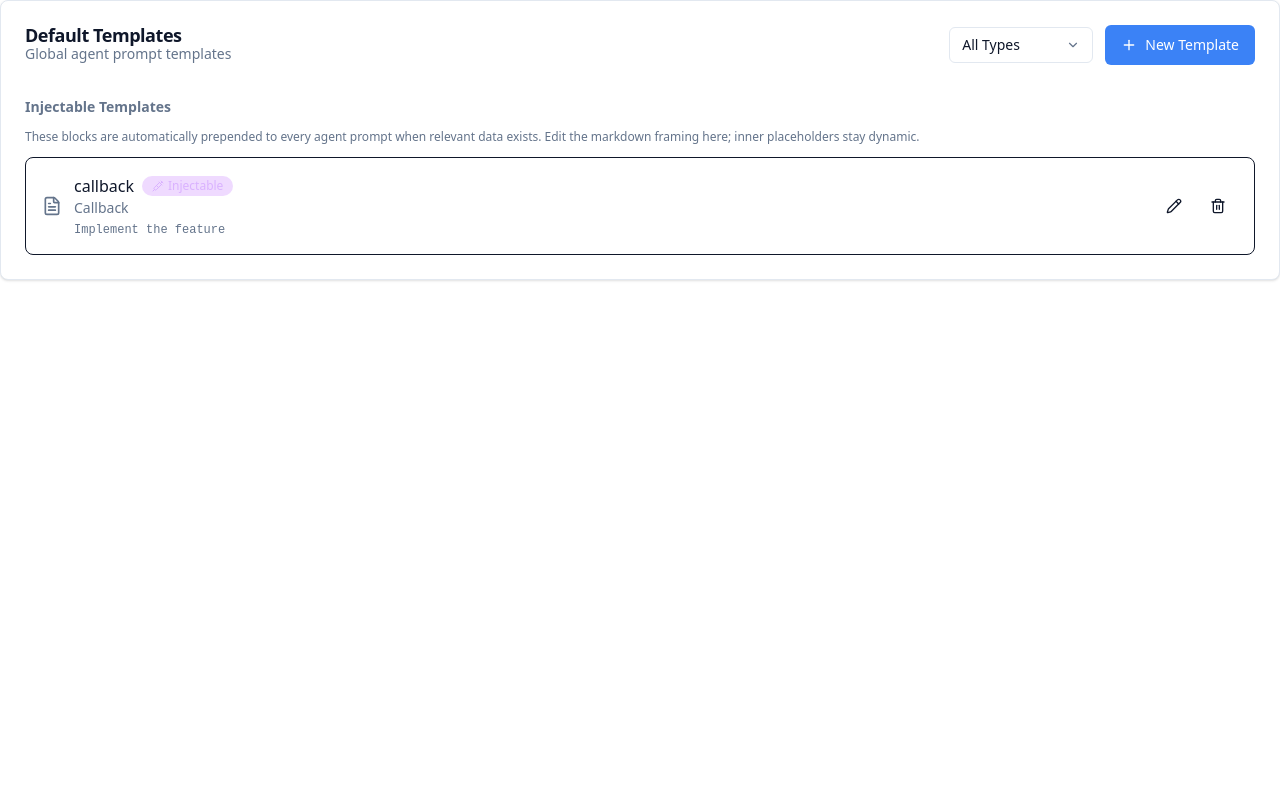
Scenario: DefaultTemplatesSection — type features › edit mode shows type as disabled input
Check: the text "callback" is shown, box [74,174,134,198]
# Click edit (buttons: filter, New Template, edit pencil, trash)
Click the 3rd button at {"x": 1174, "y": 206}, box [1154,186,1194,226]
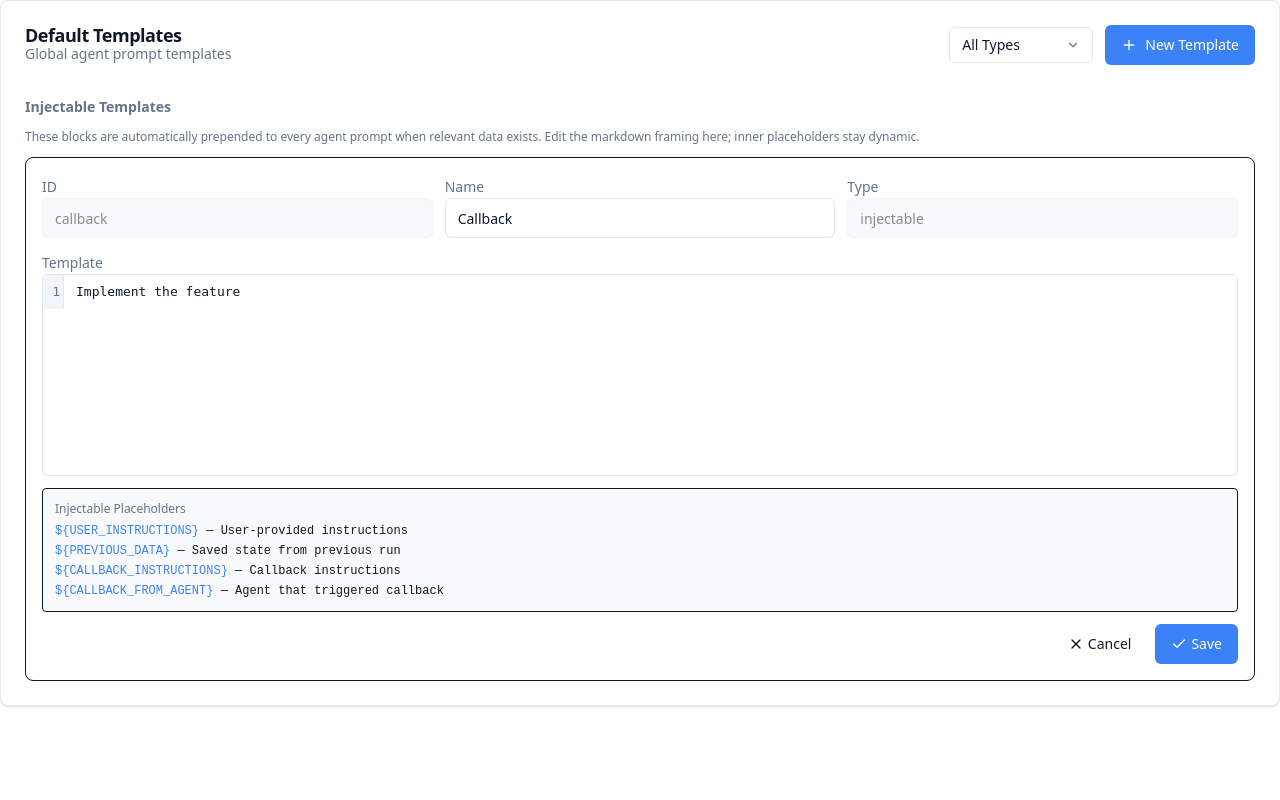
Check: the 3rd field showing "injectable" is disabled, box [847,198,1238,238]
